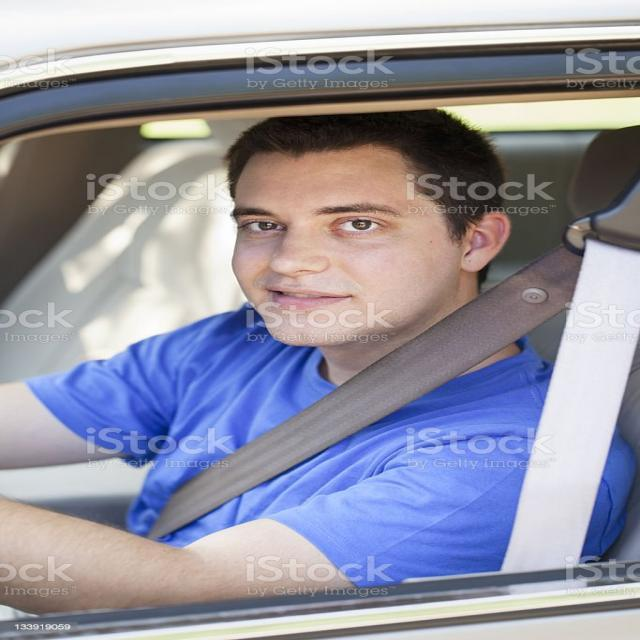seatbelt: (140, 189, 630, 542)
